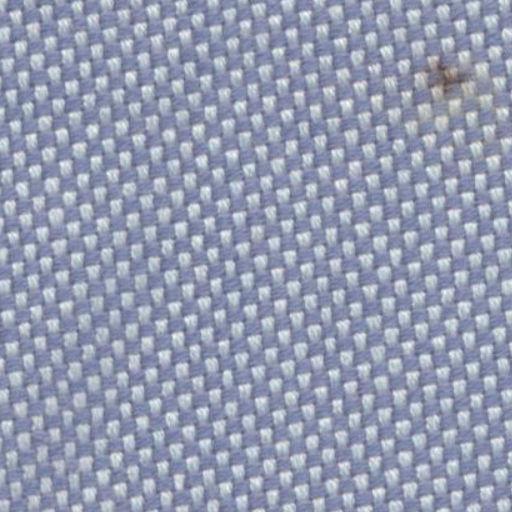WuZi: (384, 34, 496, 131)
